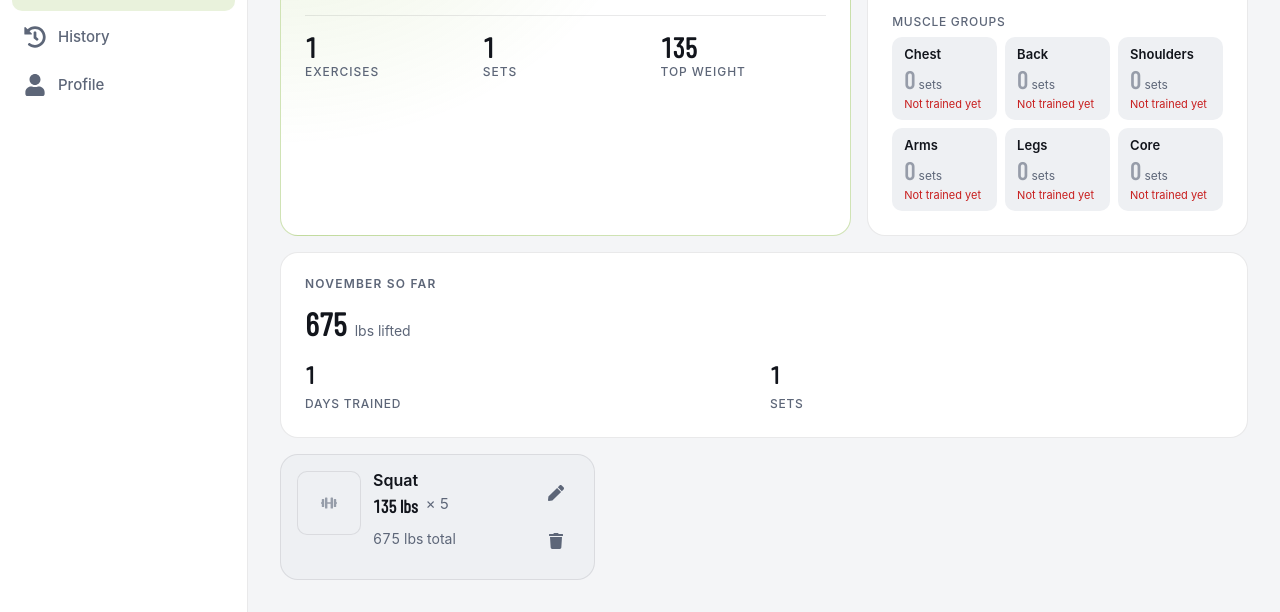
Test: editing a saved exercise › Cancel closes the form without changing anything
(page scrolled)
Check: the heading "Squat" is shown, box [373,470,418,490]
Step 1. Click the button named "Edit Squat" → (556, 493), box [534,471,578,515]
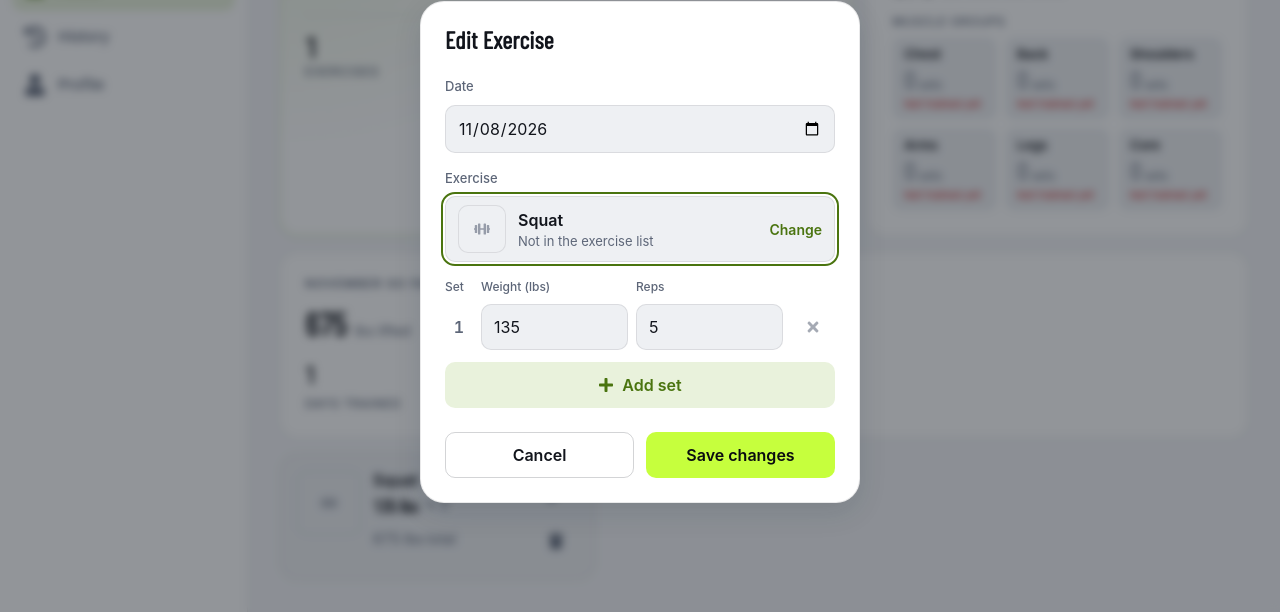
Step 2. Click the button "Cancel" → (540, 455), box [445,432,634,478]
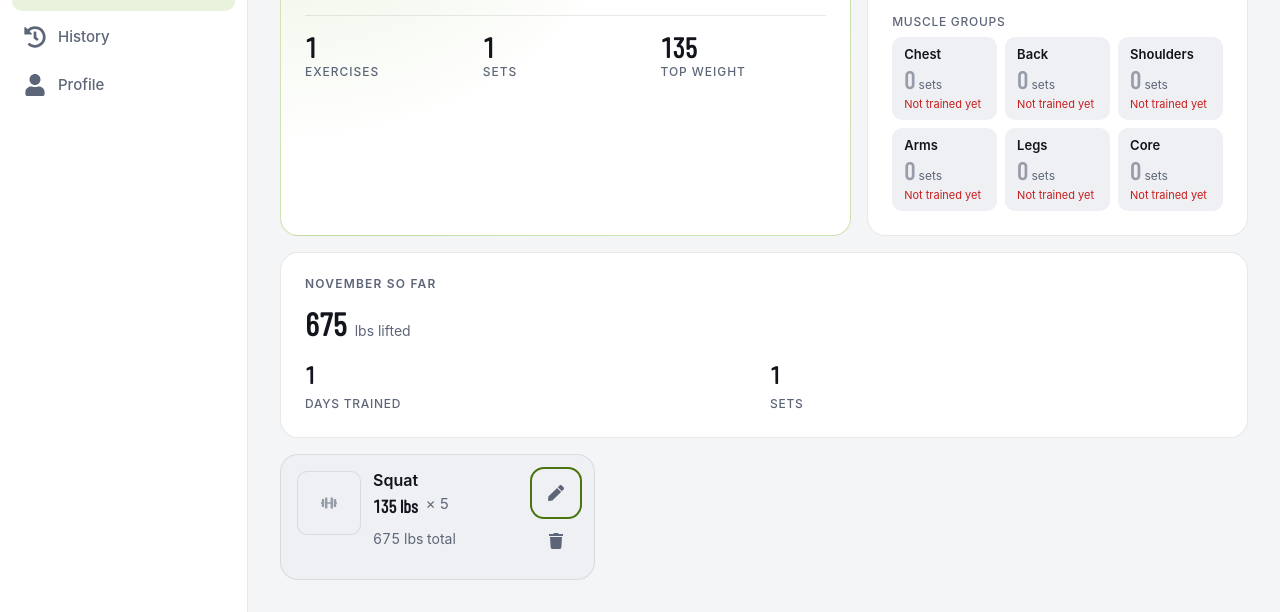
Check: the text "135 lbs" is shown, box [373,493,418,520]
Check: the heading "Edit Exercise" is gone
